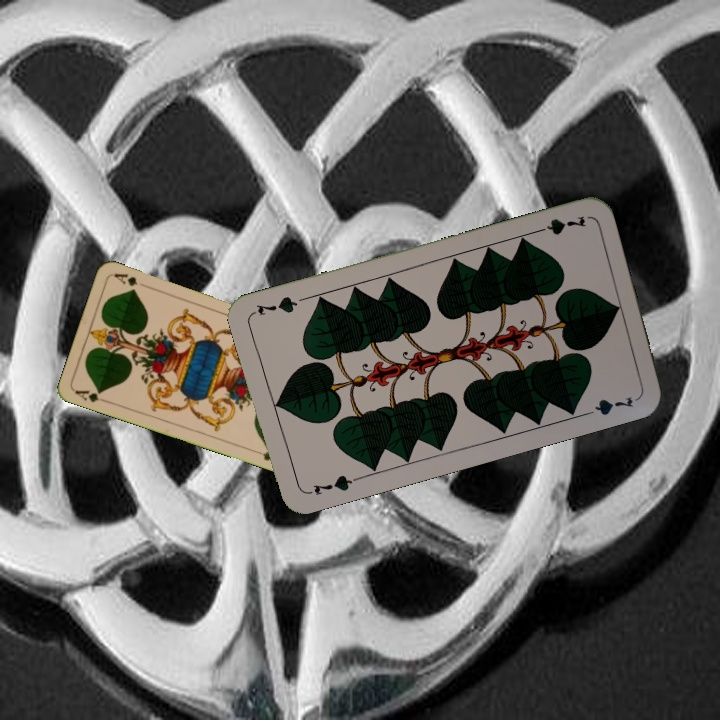G7: (302, 471, 361, 499), (529, 211, 588, 238)
GA: (71, 386, 111, 406)
